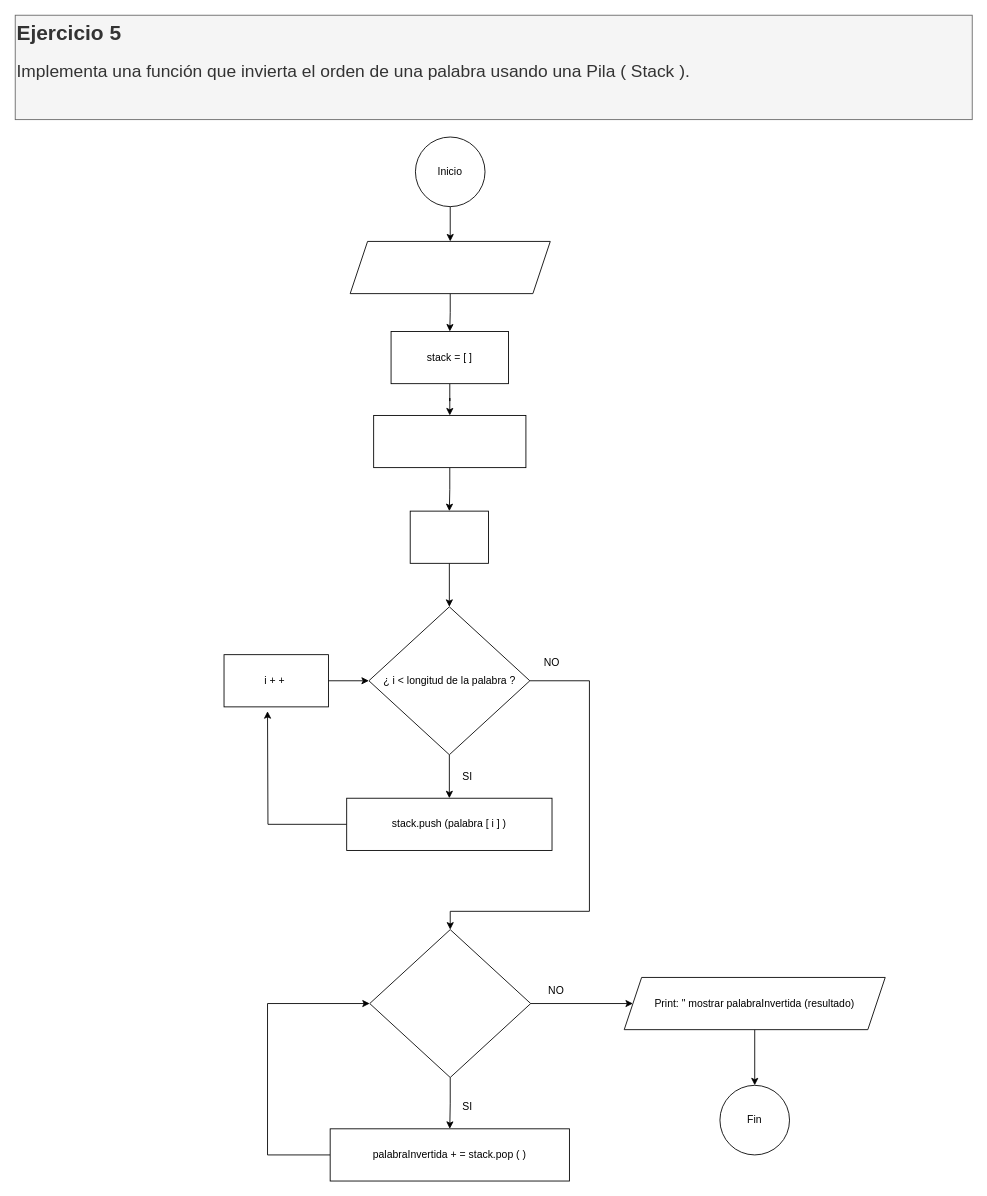
Some shapes in this 987 by 1196 pixel diagram are drawn without their labels. The centre of each missing label's shape, as x and y in pixels:
i = 0: (449,536)
Introducir palabra: (449,267)
palabraInvertida = " ": (449,441)
¿ stack length > 0 ?: (450,1003)
